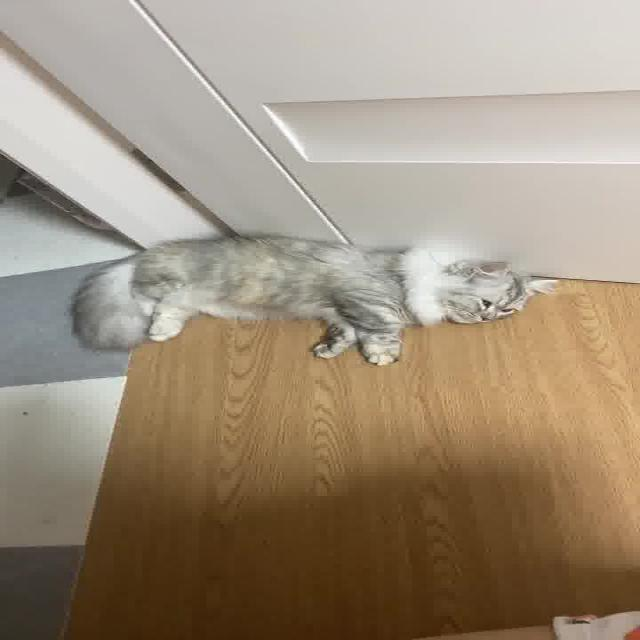cat: (46, 222, 569, 370)
